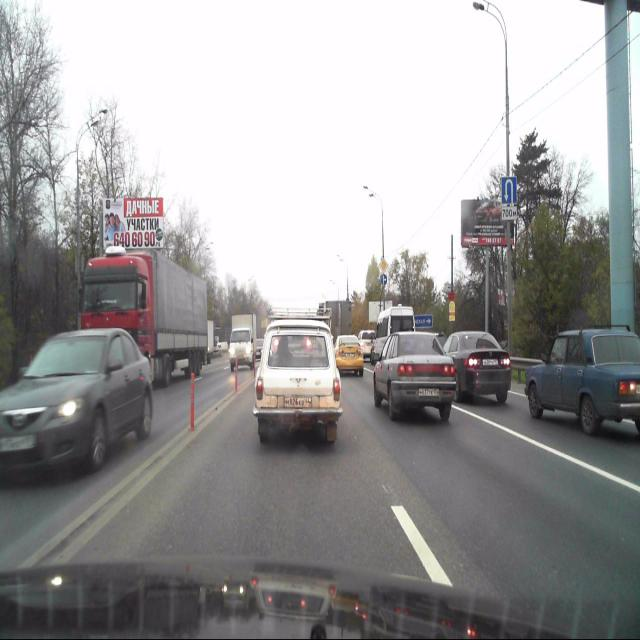road sign: (500, 176, 516, 204), (378, 258, 388, 273)
